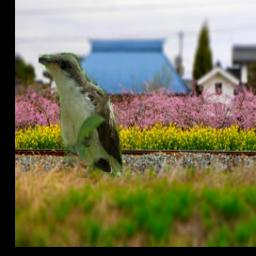Cuckoo: (39, 53, 125, 179)
